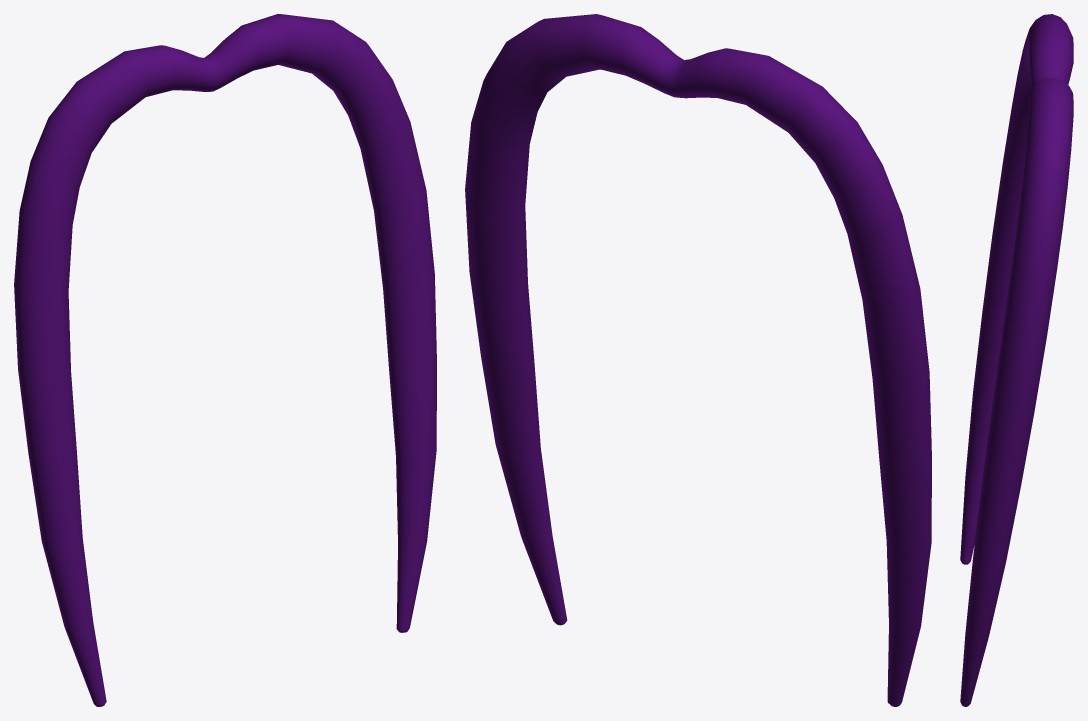
The model's file is mustache.fbx.
3 views of the same model, side by side, from view 1: azimuth 30°, elevation 25°; view 2: azimuth 150°, elevation 25°; view 3: azimuth 270°, elevation 25° (orthographic). The views are drawn at different scales.
Visible parts, largest first — view 1: mustache; view 2: mustache; view 3: mustache.
Boxes of the visible parts, bbox=[...] form: mustache: bbox=[14, 14, 436, 706]; mustache: bbox=[465, 14, 931, 706]; mustache: bbox=[960, 14, 1073, 706].
Bounding box in the file's own units: 0.5347 × 0.7464 × 0.1328.
